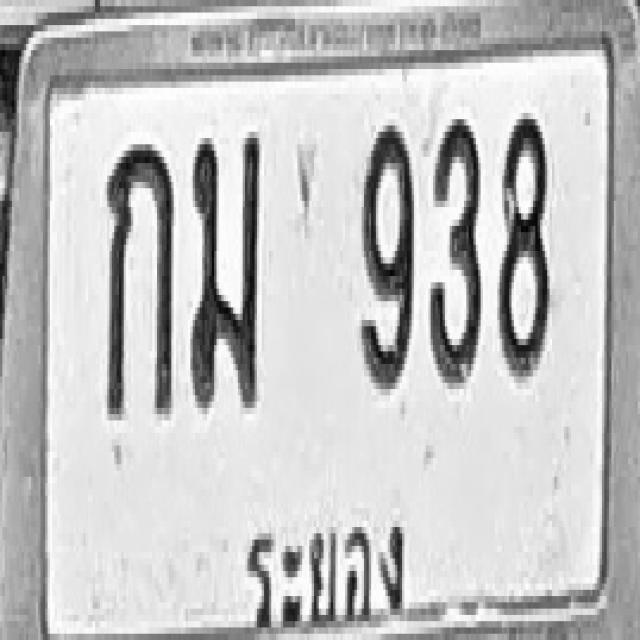10GorGai: (104, 135, 174, 417)
3: (428, 113, 481, 383)
42MorMa: (190, 125, 260, 408)
8: (497, 110, 550, 373)
9: (360, 116, 413, 386)
Rayong: (238, 492, 414, 640)
